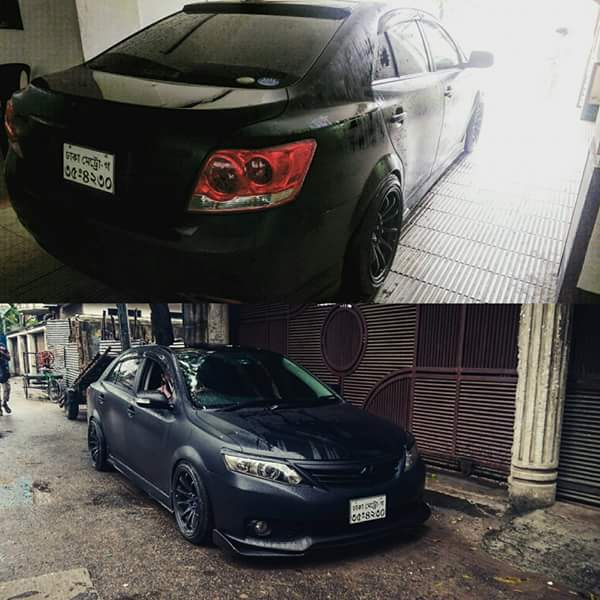registration_plate: (63, 141, 115, 194), (348, 492, 387, 525)
